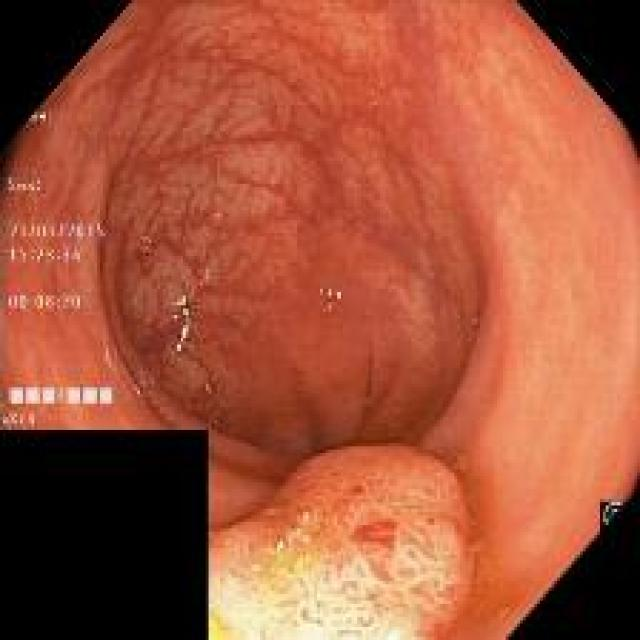Polyps: (210, 447, 475, 640)
